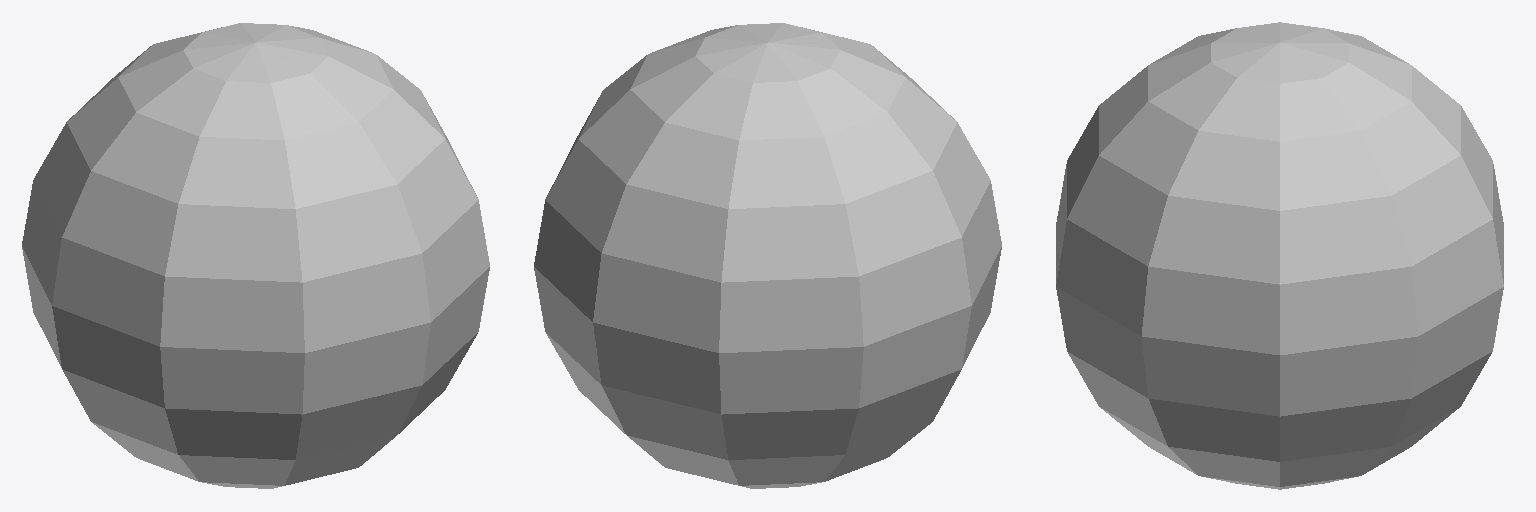
Rendered from bullet.obj.
The picture shows the model from 3 angles: view 1: azimuth 30°, elevation 25°; view 2: azimuth 150°, elevation 25°; view 3: azimuth 270°, elevation 25°; orthographic projection.
Visible parts, largest first — view 1: bullet; view 2: bullet; view 3: bullet.
Part boxes in pixels (left/top/right/bottom): bullet: left=22, top=23, right=489, bottom=488; bullet: left=534, top=23, right=1001, bottom=488; bullet: left=1056, top=22, right=1503, bottom=489.
Bounding box in the file's own units: 0.3496 × 0.3496 × 0.3325.